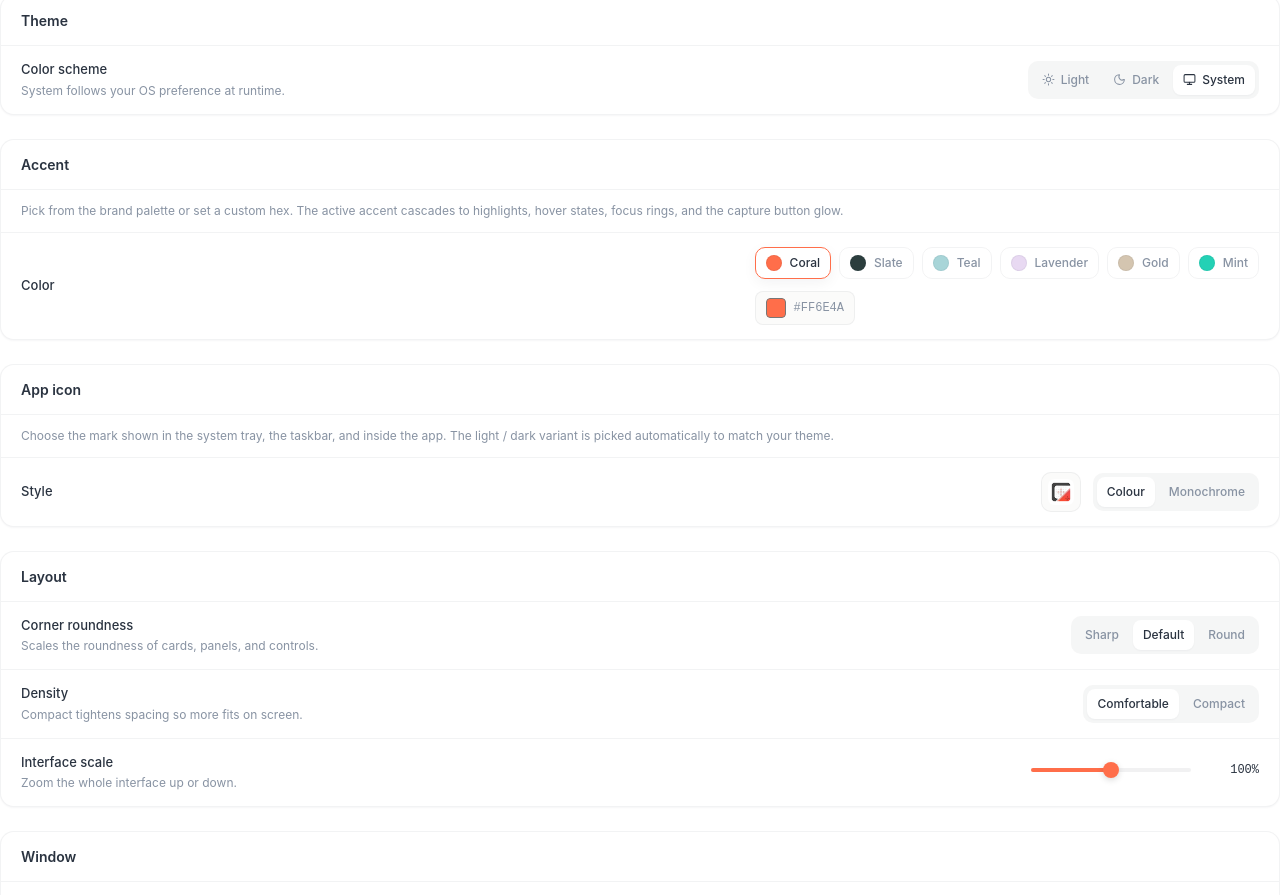
Test case: AppearancePanel › previews interface scale while dragging and commits on release
This screenshot has width=1280, height=895.
Set the slider named "Interface scale" to "110" at (1147, 770), box [1031, 762, 1191, 778]
(page scrolled)
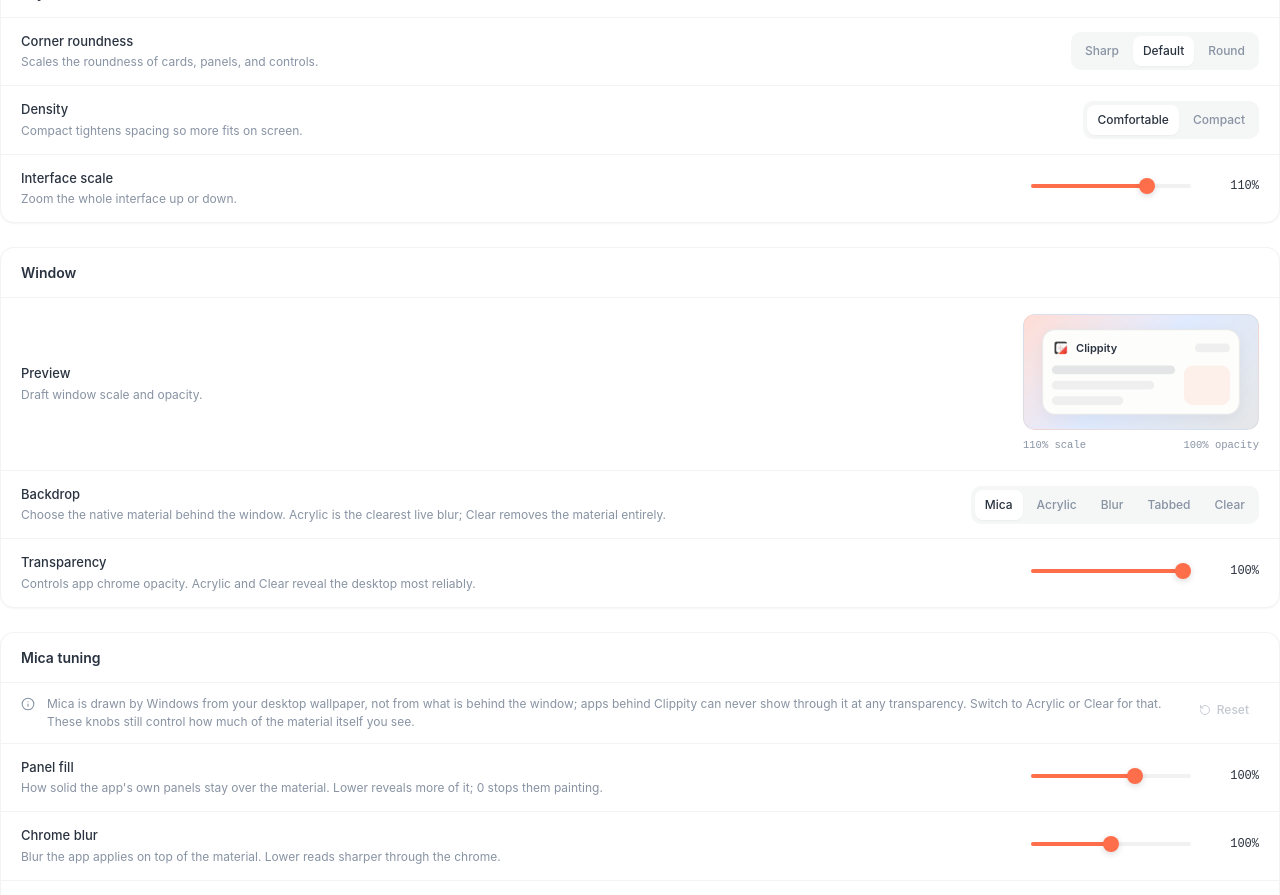
Result: the text "110% scale" is shown at [1023, 438, 1086, 454]
